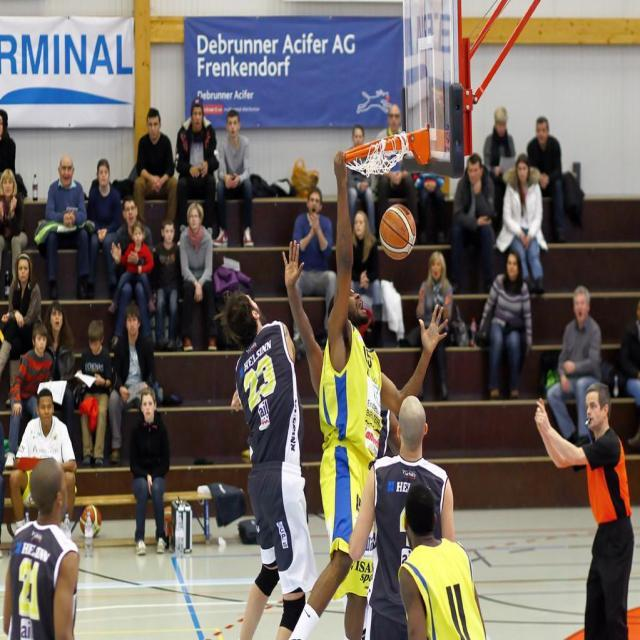rim: (379, 199, 419, 260)
